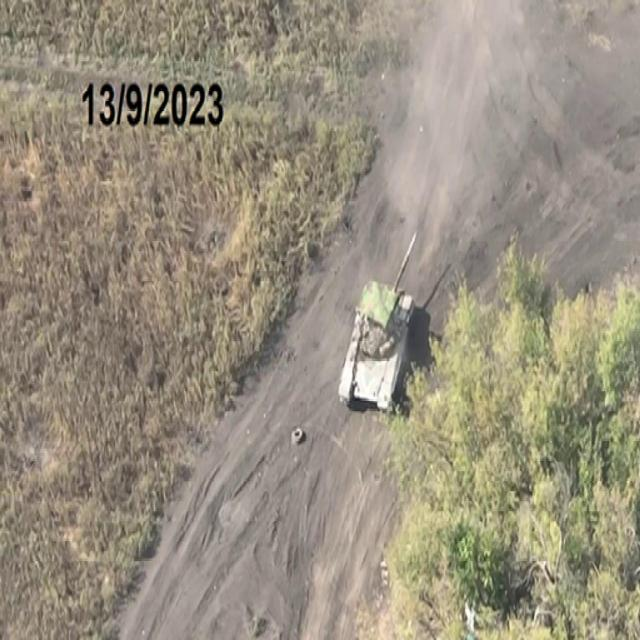TANK: (333, 218, 428, 420)
